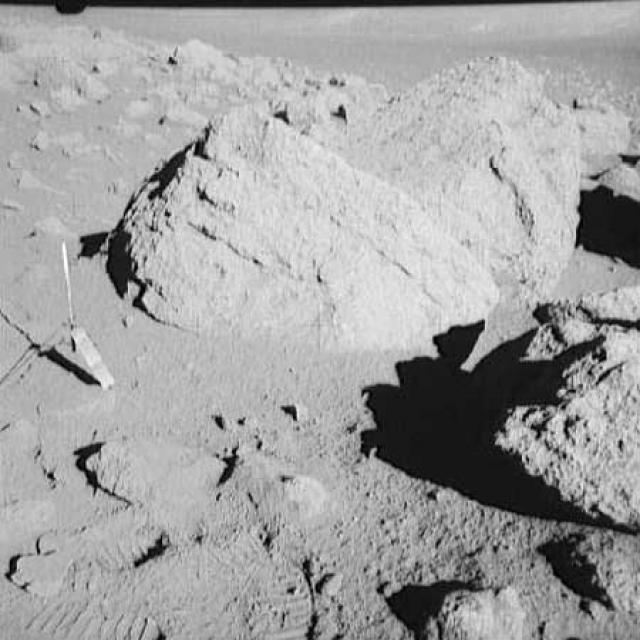artifact: (17, 233, 117, 394)
rock: (110, 128, 502, 346), (349, 55, 585, 293), (501, 287, 638, 522), (562, 526, 638, 622), (424, 574, 525, 638), (32, 51, 113, 109)
